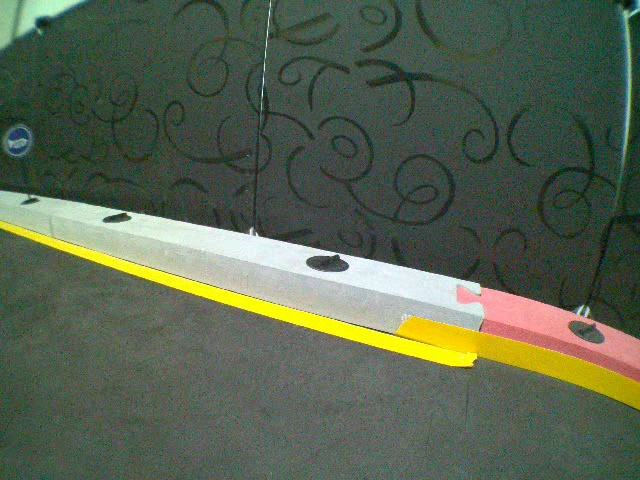horn: (3, 122, 34, 159)
